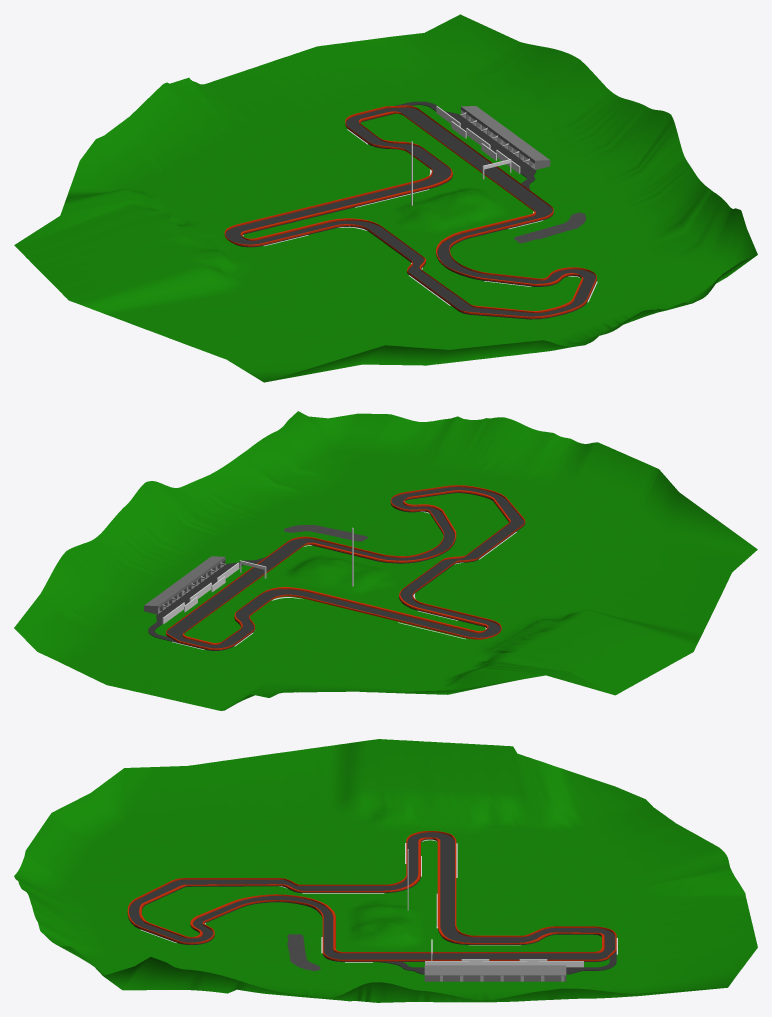
File: circuitnew1.fbx
The picture shows the model from 3 angles, top to bottom: view 1: azimuth 30°, elevation 25°; view 2: azimuth 150°, elevation 25°; view 3: azimuth 270°, elevation 25°; orthographic projection. The views are drawn at different scales.
Parts seen in each view (by area): view 1: Grass, track, track.002, track.001, Pitlane, Grass.001; view 2: Grass, track, track.002, track.001, Pitlane, Grass.001; view 3: Grass, track, track.002, track.001, Grass.001, Pitlane.
Boxes of the visible parts, box(x1,y1,x2,y2) form: Grass: box(14, 14, 757, 382); track: box(225, 107, 596, 319); track.002: box(240, 111, 583, 313); track.001: box(224, 105, 596, 318); Pitlane: box(395, 101, 536, 190); Grass.001: box(514, 212, 586, 243); Grass: box(14, 411, 757, 710); track: box(166, 487, 525, 650); track.002: box(182, 490, 510, 644); track.001: box(166, 485, 525, 650); Pitlane: box(148, 557, 265, 642); Grass.001: box(284, 525, 368, 541); Grass: box(14, 739, 757, 1002); track: box(127, 832, 616, 961); track.002: box(139, 837, 604, 953); track.001: box(127, 831, 616, 961); Grass.001: box(287, 934, 320, 970); Pitlane: box(377, 951, 616, 974).
Size of the model in its own units: 29247 by 3125 by 32730.
